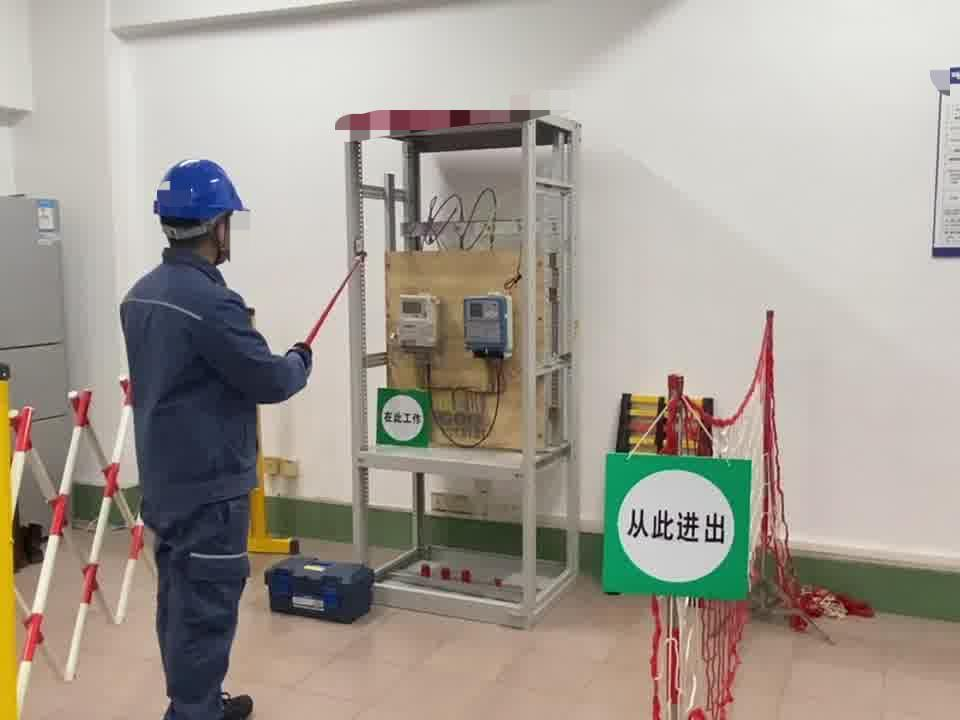halt: (155, 161, 252, 265)
inear: (205, 217, 235, 258)
